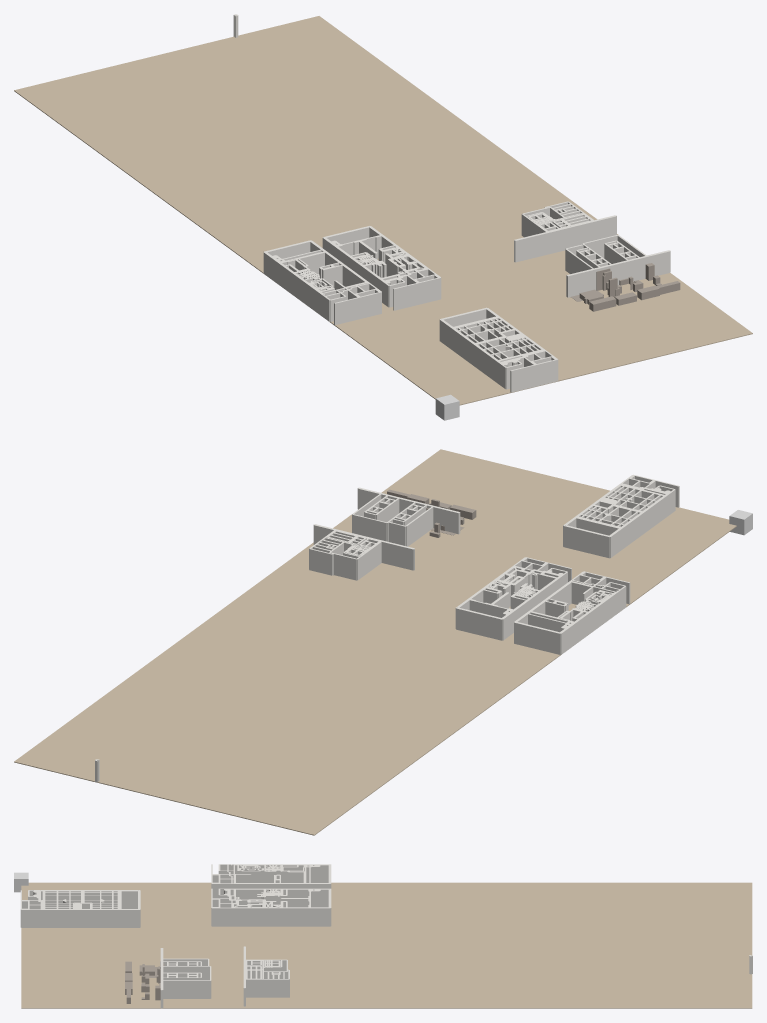
File: reconstructed_multiroom_property.glb
The picture shows the model from 3 angles, top to bottom: view 1: azimuth 30°, elevation 25°; view 2: azimuth 150°, elevation 25°; view 3: azimuth 270°, elevation 25°; orthographic projection. The views are drawn at different scales.
Visible parts, largest first — view 1: floor_slab, wall_782, wall_910, wall_11, wall_542, wall_479, wall_574, wall_1, wall_370; view 2: floor_slab, wall_11, wall_542, wall_908, wall_605, wall_232, wall_9, wall_370, wall_784, wall_974, wall_911; view 3: floor_slab, wall_990, wall_539, wall_975, wall_664, wall_7, wall_481, wall_576, wall_607, wall_632, wall_862, wall_604.
Part boxes in pixels (left/top/right/bottom): floor_slab: left=14, top=16, right=752, bottom=405; wall_782: left=515, top=216, right=616, bottom=262; wall_910: left=567, top=250, right=670, bottom=297; wall_11: left=263, top=252, right=321, bottom=314; wall_542: left=451, top=328, right=500, bottom=384; wall_479: left=393, top=277, right=440, bottom=310; wall_574: left=510, top=359, right=557, bottom=392; wall_1: left=334, top=292, right=381, bottom=324; wall_370: left=322, top=237, right=380, bottom=289; floor_slab: left=14, top=449, right=736, bottom=835; wall_11: left=560, top=592, right=617, bottom=654; wall_542: left=621, top=494, right=669, bottom=548; wall_908: left=358, top=488, right=459, bottom=534; wall_605: left=563, top=525, right=609, bottom=558; wall_232: left=456, top=608, right=502, bottom=640; wall_9: left=514, top=622, right=560, bottom=654; wall_370: left=502, top=578, right=559, bottom=640; wall_784: left=357, top=535, right=413, bottom=570; wall_974: left=352, top=514, right=387, bottom=541; wall_911: left=405, top=507, right=433, bottom=546; floor_slab: left=21, top=882, right=752, bottom=1008; wall_990: left=232, top=907, right=330, bottom=926; wall_539: left=41, top=909, right=119, bottom=927; wall_975: left=163, top=980, right=210, bottom=998; wall_664: left=246, top=979, right=288, bottom=997; wall_7: left=234, top=883, right=330, bottom=888; wall_481: left=212, top=907, right=231, bottom=926; wall_576: left=21, top=909, right=41, bottom=927; wall_607: left=119, top=909, right=139, bottom=927; wall_632: left=45, top=895, right=117, bottom=900; wall_862: left=162, top=966, right=210, bottom=980; wall_604: left=121, top=890, right=138, bottom=908.
Bounding box in the file's own units: 41.2 × 3.7 × 99.77.
